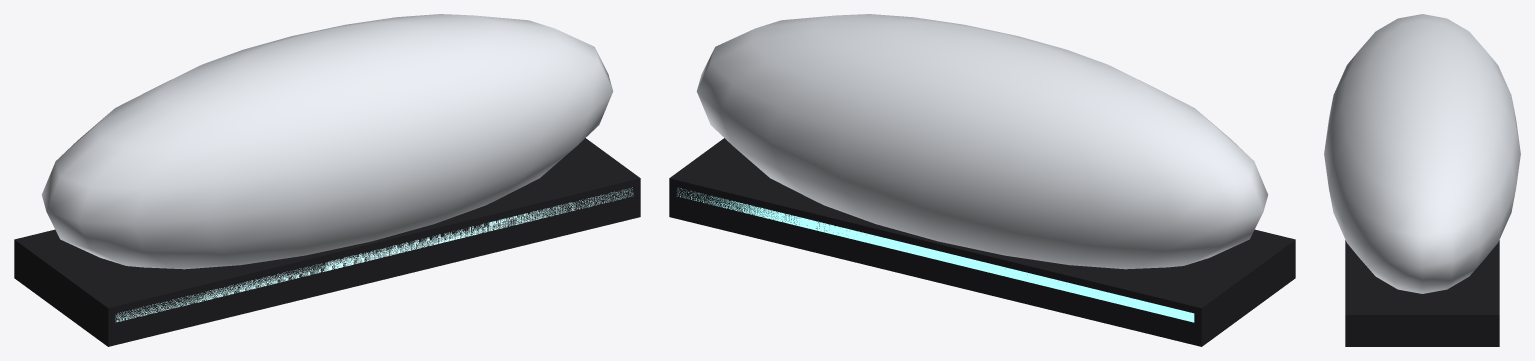
The model's file is loco_pod_2042.glb.
3 renders of one model, left to right at view 1: azimuth 30°, elevation 25°; view 2: azimuth 150°, elevation 25°; view 3: azimuth 270°, elevation 25°, orthographic. The views are drawn at different scales.
Parts seen in each view (by area): view 1: Capsule, Chassis, Glow; view 2: Capsule, Chassis, Glow; view 3: Capsule, Chassis.
Part boxes in pixels (x1,y1,x2,y2): Capsule: (42,14,613,269); Chassis: (14,138,640,346); Glow: (115,187,633,321); Capsule: (696,14,1267,269); Chassis: (669,138,1295,346); Glow: (677,188,1194,322); Capsule: (1324,14,1520,293); Chassis: (1345,240,1499,346).
Size of the model in its own units: 0.76 by 0.265 by 0.28.
